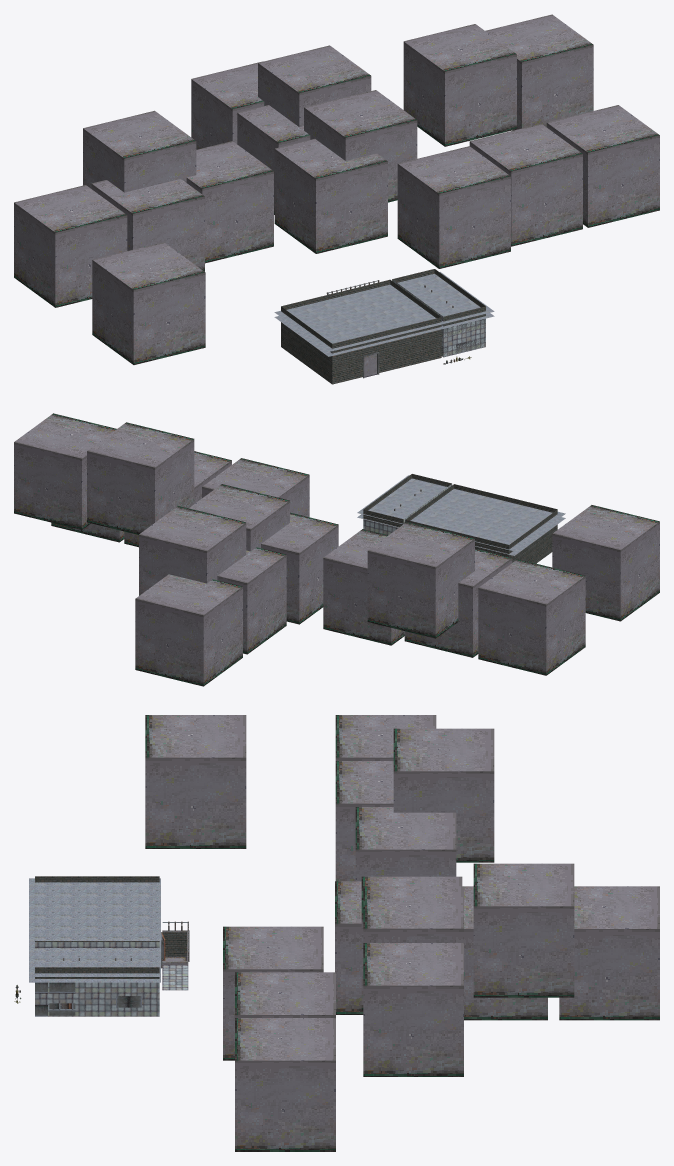
The model's file is restaurant.glb.
The picture shows the model from 3 angles, top to bottom: view 1: azimuth 30°, elevation 25°; view 2: azimuth 150°, elevation 25°; view 3: azimuth 270°, elevation 25°; orthographic projection. The views are drawn at different scales.
Parts seen in each view (by area): view 1: skyboxcube.014, skyboxcube.003, skyboxcube.011, skyboxcube, skyboxcube.008, skyboxcube.005, skyboxcube.004, LevelGeo-col, Ceiling, skyboxcube.012, skyboxcube.006, skyboxcube.013 (+6 smaller); view 2: skyboxcube.008, skyboxcube.002, skyboxcube.013, skyboxcube.011, skyboxcube.014, skyboxcube.012, Ceiling, skyboxcube.010, skyboxcube.006, skyboxcube, skyboxcube.001, LevelGeo-col (+5 smaller); view 3: skyboxcube.010, skyboxcube.014, skyboxcube.005, skyboxcube.012, skyboxcube.002, Ceiling, skyboxcube.013, LevelGeo-col, skyboxcube.006, skyboxcube.003, skyboxcube.011, skyboxcube.004 (+6 smaller).
Boxes of the visible parts, box(x1,y1,x2,y2) form: skyboxcube.014: box(92, 242, 205, 364); skyboxcube.003: box(397, 146, 510, 268); skyboxcube.011: box(403, 24, 516, 146); skyboxcube: box(274, 139, 387, 253); skyboxcube.008: box(14, 185, 127, 307); skyboxcube.005: box(546, 105, 659, 227); skyboxcube.004: box(469, 123, 582, 246); LevelGeo-col: box(281, 269, 485, 384); Ceiling: box(274, 272, 494, 356); skyboxcube.012: box(485, 14, 593, 130); skyboxcube.006: box(186, 141, 273, 263); skyboxcube.013: box(83, 110, 196, 192); skyboxcube.008: box(478, 559, 585, 675); skyboxcube.002: box(135, 574, 242, 686); skyboxcube.013: box(367, 522, 474, 638); skyboxcube.011: box(87, 422, 194, 534); skyboxcube.014: box(552, 505, 659, 621); skyboxcube.012: box(14, 413, 116, 529); Ceiling: box(357, 475, 565, 555); skyboxcube.010: box(139, 506, 246, 595); skyboxcube.006: box(323, 529, 404, 645); skyboxcube: box(261, 512, 338, 624); skyboxcube.001: box(217, 547, 286, 654); LevelGeo-col: box(363, 474, 557, 563); skyboxcube.010: box(473, 863, 574, 997); skyboxcube.014: box(145, 715, 246, 848); skyboxcube.005: box(235, 1018, 335, 1151); skyboxcube.012: box(363, 943, 463, 1076); skyboxcube.002: box(559, 886, 659, 1020); Ceiling: box(29, 878, 160, 982); skyboxcube.013: box(393, 728, 494, 862); LevelGeo-col: box(35, 876, 189, 1016); skyboxcube.006: box(355, 807, 456, 881); skyboxcube.003: box(223, 926, 323, 1060); skyboxcube.011: box(363, 886, 463, 942); skyboxcube.004: box(235, 972, 335, 1017).
Size of the model in its own units: 60.81 by 16.03 by 49.75.
Materials: 14 (14 with a texture image).
